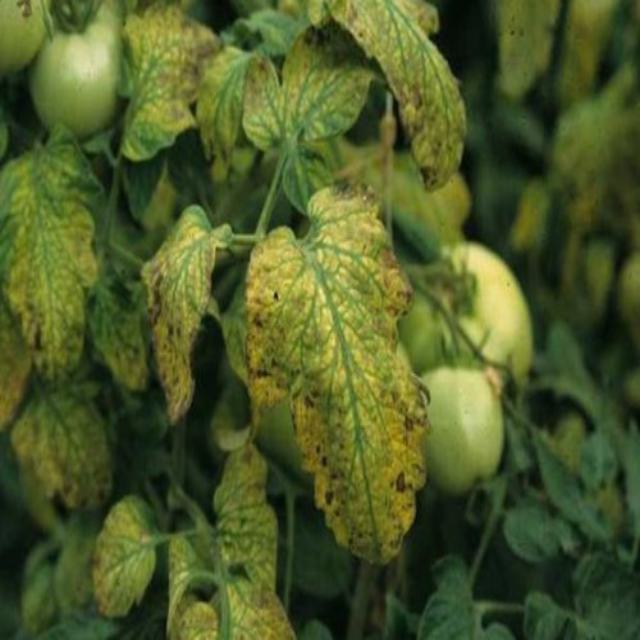Leaf_Mold: (237, 184, 433, 568), (223, 5, 389, 177), (324, 2, 467, 195), (2, 146, 98, 386), (144, 205, 236, 423), (209, 446, 294, 640), (125, 2, 221, 162), (12, 386, 111, 513), (90, 500, 159, 615), (92, 281, 149, 393), (164, 528, 218, 640)
